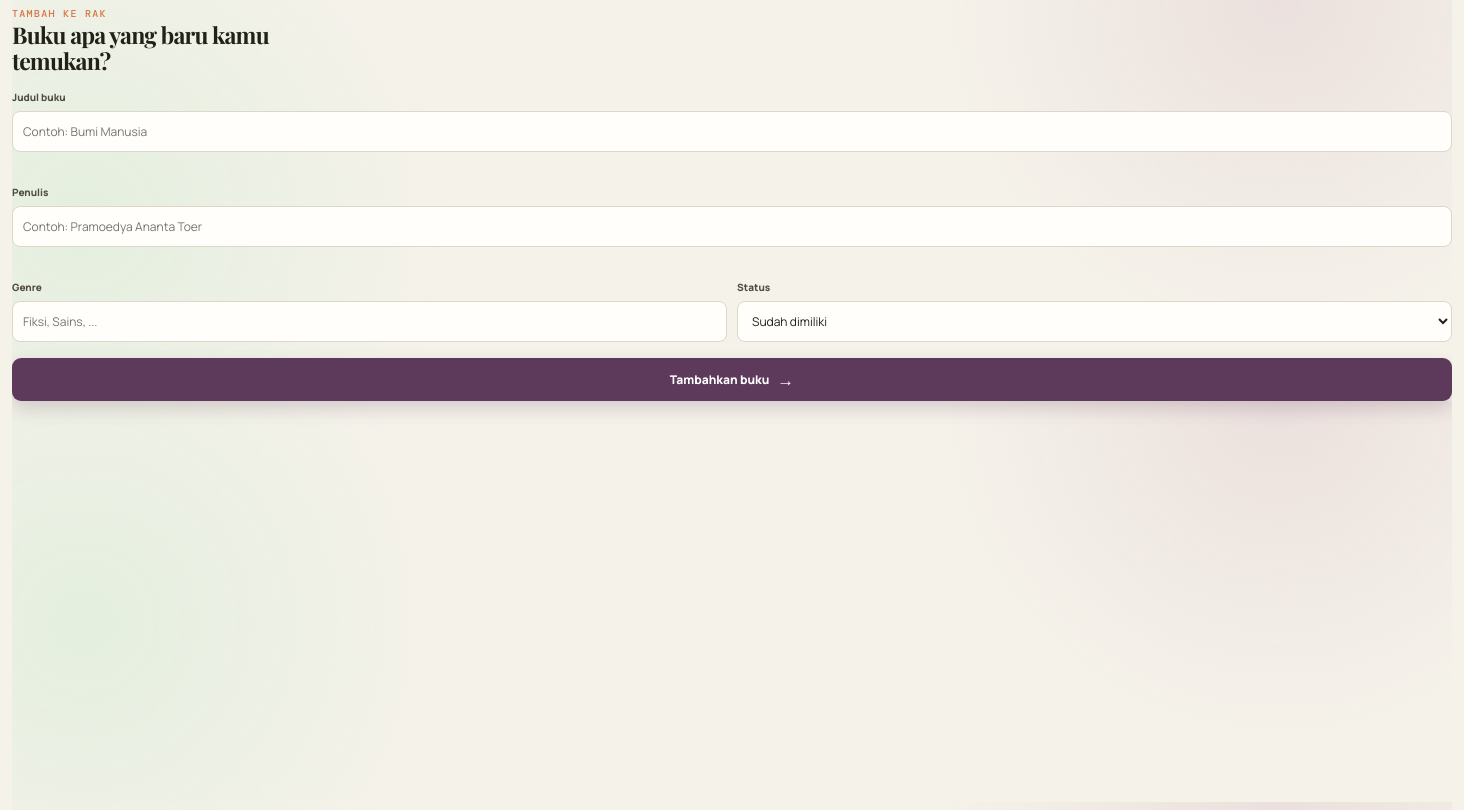
Test: BookForm › menampilkan error ketika judul dan penulis kosong
Click the button "Tambahkan buku →" at (732, 379), box [12,358,1452,400]
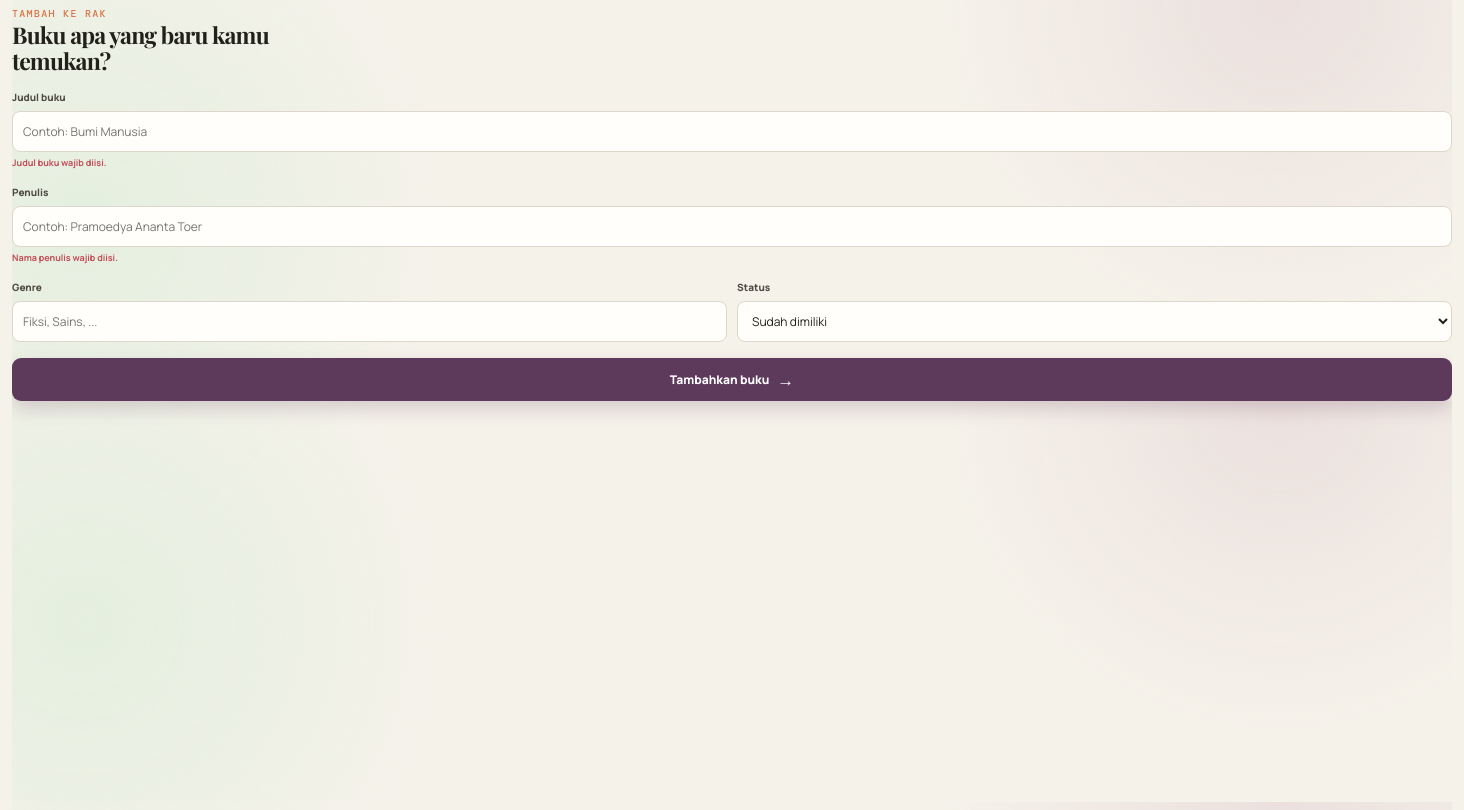
Expected: the text "Judul buku wajib diisi." is shown, [12,156,106,168]
Expected: the text "Nama penulis wajib diisi." is shown, [12,250,118,264]
